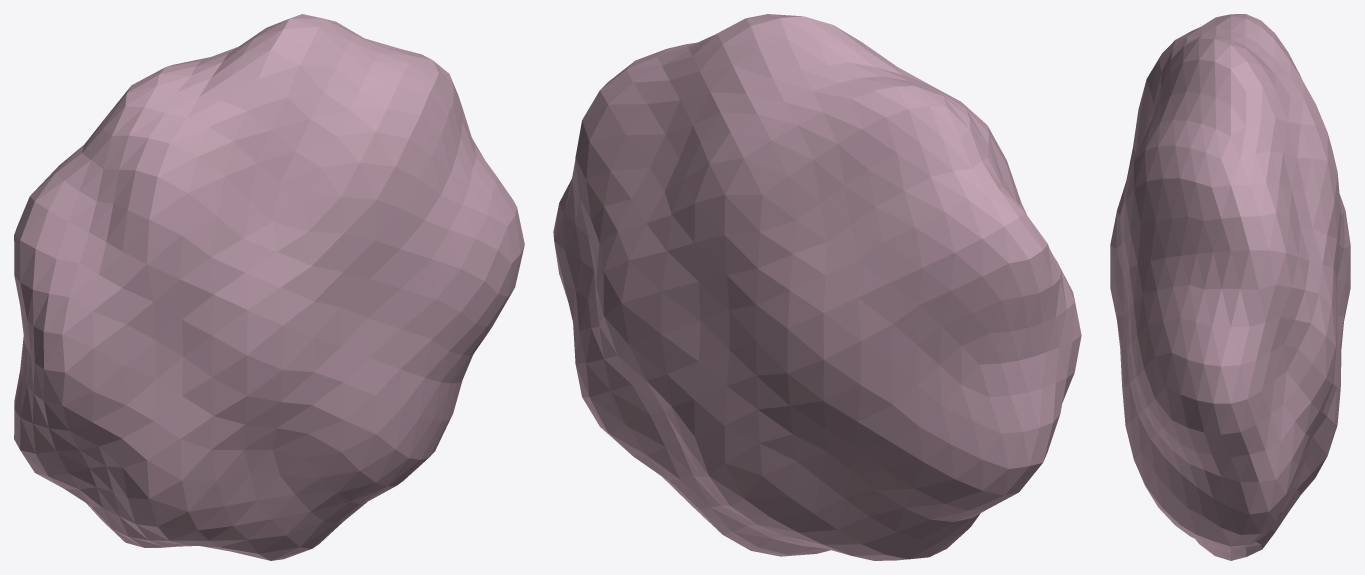
The model's file is Bana_Flower_Cluster.glb.
3 renders of one model, left to right at view 1: azimuth 30°, elevation 25°; view 2: azimuth 150°, elevation 25°; view 3: azimuth 270°, elevation 25°, orthographic. The views are drawn at different scales.
Parts seen in each view (by area): view 1: world; view 2: world; view 3: world.
Part boxes in pixels (x1,y1,x2,y2): world: (14, 14, 524, 560); world: (553, 14, 1081, 560); world: (1110, 14, 1350, 560).
Bounding box in the file's own units: 2.85 × 2.92 × 1.25.
